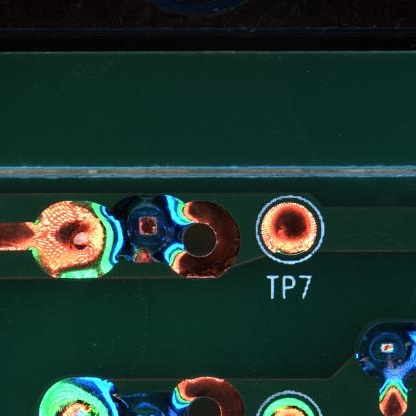spot: (118, 197, 180, 265), (354, 321, 416, 379)
